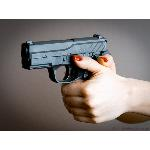Pistol: (18, 29, 110, 92)
